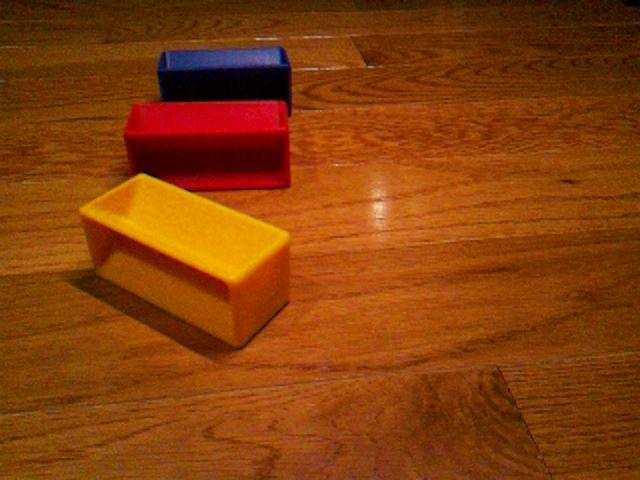blue: (156, 45, 293, 115)
red: (123, 99, 292, 191)
yellow: (78, 171, 292, 350)
